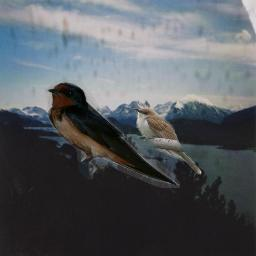Cuckoo: (133, 108, 202, 175)
Swallow: (44, 80, 180, 188)
